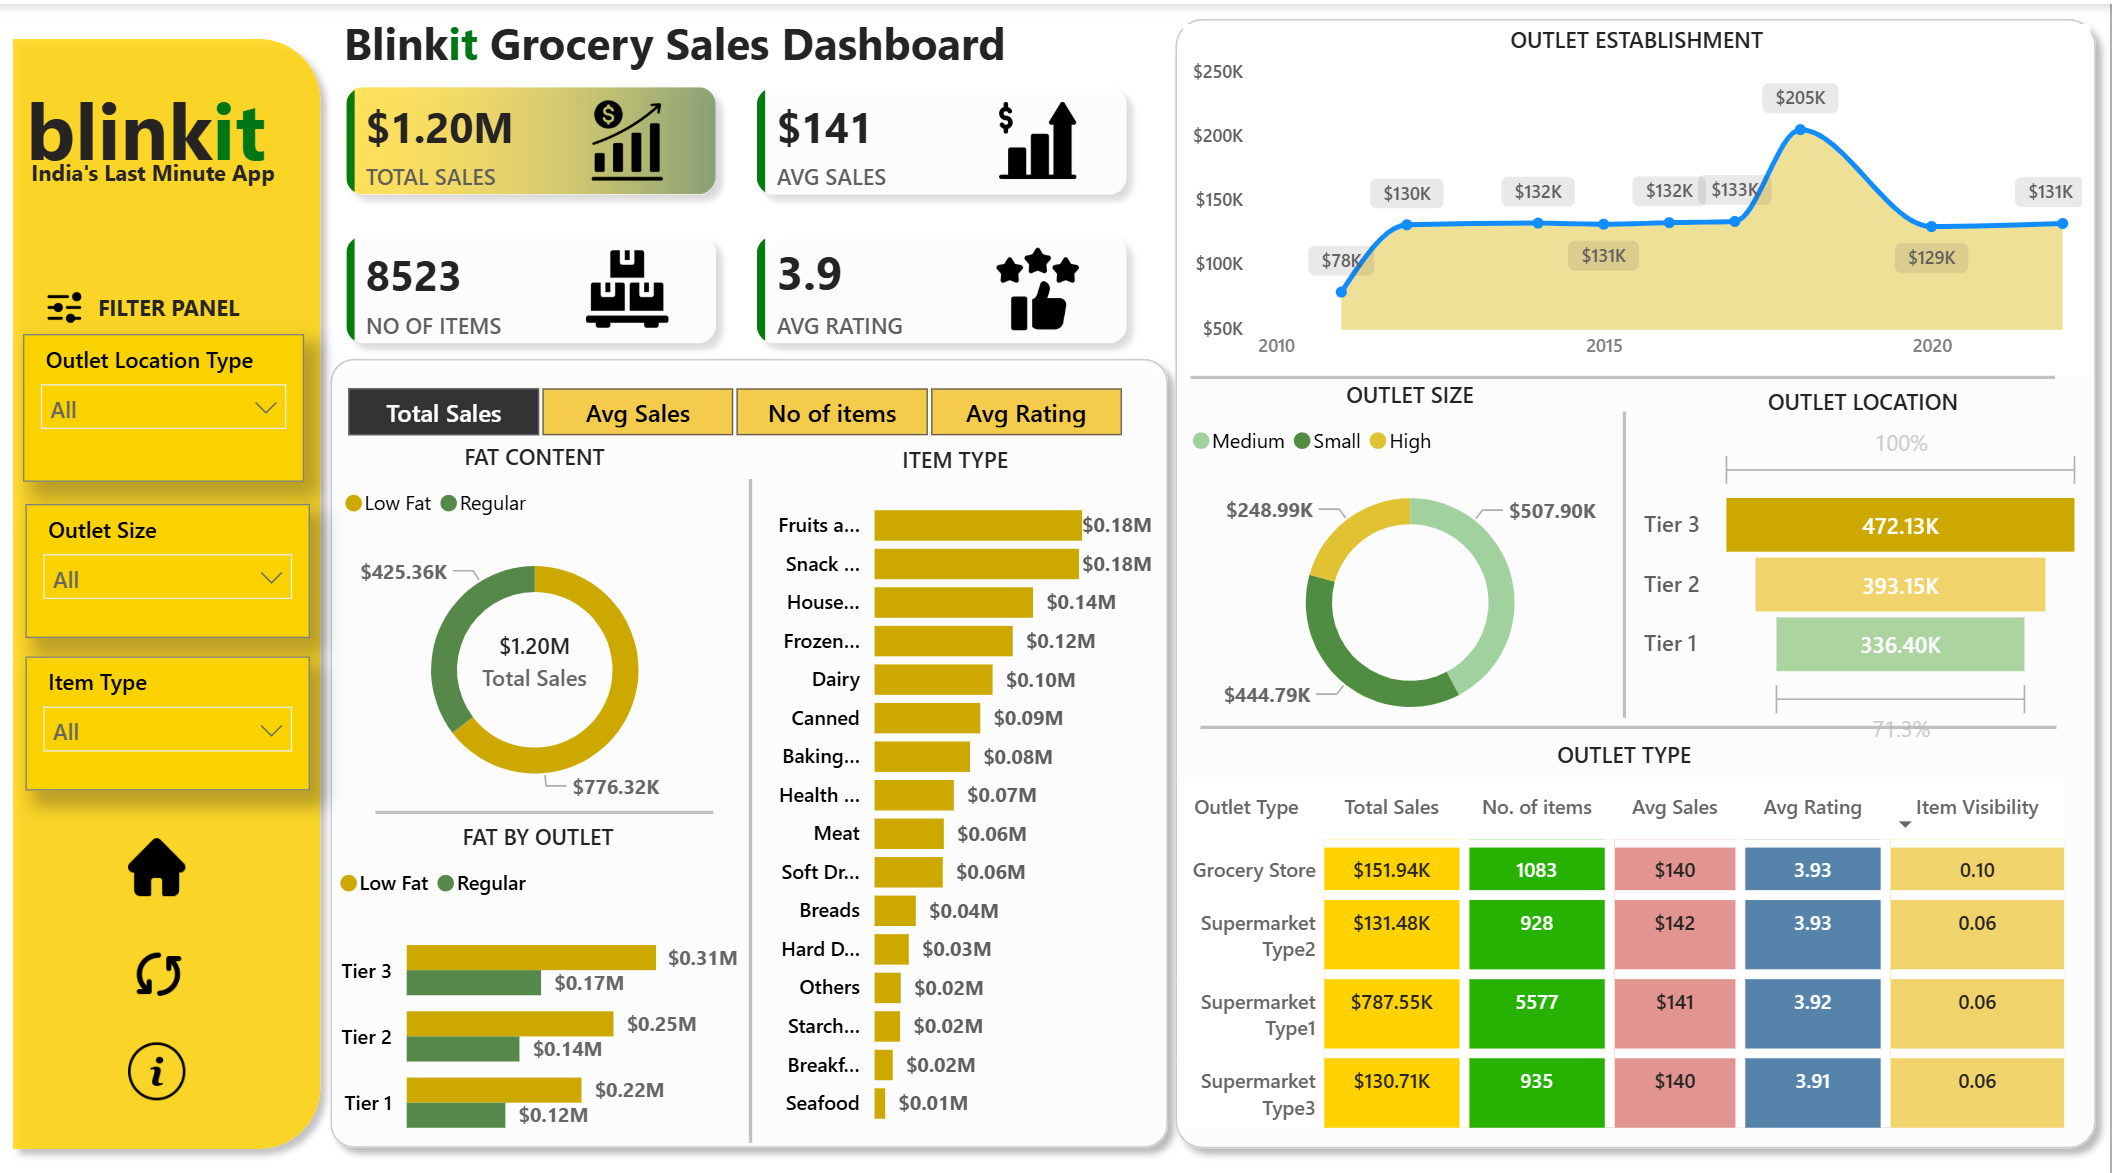

The page's visual inventory and layout, read from the dashboard file:
{"tool":"powerbi","page":{"name":"Page 1","canvas":[1280,720],"ordinal":0},"visuals":[{"type":"shape","box":[0,11.8,204.4,690.8],"z":0},{"type":"textbox","box":[11.8,37.2,180.7,82.8],"z":1000},{"type":"textbox","box":[15.2,87.8,172.3,32.1],"z":2000},{"type":"cardVisual","fields":{"Data":["Blinkit Grocery data.Total Sales","Blinkit Grocery data.Avg Sales","Blinkit Grocery data.No of items","Blinkit Grocery data.Avg Rating"]},"box":[194.2,33.8,508.4,190.9],"z":3000},{"type":"shape","box":[192.6,206.5,525.7,496.2],"z":4000},{"type":"donutChart","title":"FAT CONTENT","fields":{"Y":["Blinkit Grocery data.Total Sales"],"Category":["Blinkit Grocery data.Item Fat Content"]},"box":[204.7,265.4,241.1,230.7],"z":5000},{"type":"clusteredBarChart","title":"FAT BY OUTLET","fields":{"Y":["Blinkit Grocery data.Total Sales"],"Category":["Blinkit Grocery data.Outlet Location Type"],"Series":["Blinkit Grocery data.Item Fat Content"]},"box":[201.2,496.2,251.6,208.2],"z":6000},{"type":"cardVisual","fields":{"Data":["Blinkit Grocery data.Total Sales"]},"box":[265,363.5,120.2,69.5],"z":7000},{"type":"slicer","fields":{"Values":["Metrics.Metrics"]},"box":[185.6,225.5,518.7,41.6],"z":8000},{"type":"shape","box":[229,432,204.7,116.2],"z":9000},{"type":"shape","box":[449.3,288,12.1,402.5],"z":10000},{"type":"barChart","title":"ITEM TYPE","fields":{"Y":["Blinkit Grocery data.Total Sales"],"Category":["Blinkit Grocery data.Item Type"]},"box":[456.3,267.2,248.1,423.3],"z":11000},{"type":"shape","box":[704.4,0,576,702.6],"z":12000},{"type":"lineChart","title":"OUTLET ESTABLISHMENT","fields":{"Y":["Blinkit Grocery data.Total Sales"],"Category":["Blinkit Grocery data.Outlet Establishment Year"]},"box":[718.2,12.1,550,213.4],"z":13000},{"type":"shape","box":[723.4,168.3,523.9,116.2],"z":14000},{"type":"donutChart","title":"OUTLET SIZE","fields":{"Y":["Blinkit Grocery data.Total Sales"],"Category":["Blinkit Grocery data.Outlet Size"]},"box":[718.2,227.3,275,225],"z":15000},{"type":"shape","box":[978.5,246.4,13.9,185.6],"z":16000},{"type":"funnel","title":"OUTLET LOCATION","fields":{"Y":["Sum(Blinkit Grocery data.Sales)"],"Category":["Blinkit Grocery data.Outlet Location Type"]},"box":[992.4,232.5,275.8,222.1],"z":17000},{"type":"shape","box":[728.7,379.9,518.7,116.2],"z":18000},{"type":"pivotTable","title":"OUTLET TYPE","fields":{"Rows":["Blinkit Grocery data.Outlet Type"],"Values":["Blinkit Grocery data.Total Sales","Blinkit Grocery data.No of items","Blinkit Grocery data.Avg Sales","Blinkit Grocery data.Avg Rating","Avg(Blinkit Grocery data.Item Visibility)"]},"box":[711.3,445.9,550,251.6],"z":19000},{"type":"slicer","fields":{"Values":["Blinkit Grocery data.Outlet Location Type"]},"box":[14.8,199.5,170.6,89.5],"z":20000},{"type":"slicer","fields":{"Values":["Blinkit Grocery data.Outlet Size"]},"box":[16.4,302.6,172.3,81.1],"z":21000},{"type":"slicer","fields":{"Values":["Blinkit Grocery data.Item Type"]},"box":[16.4,395.5,172.3,81.1],"z":22000},{"type":"textbox","box":[17.7,169.2,170.6,30.8],"z":23000},{"type":"image","box":[79.3,502.1,35,43.4],"z":24000},{"type":"image","box":[79.3,570.6,37.8,33.6],"z":25000},{"type":"image","box":[79.3,628,35,39.2],"z":26000},{"type":"image","box":[24.7,173.4,32.2,22.4],"z":27000},{"type":"textbox","box":[204.4,0,498.3,52.4],"z":28000}]}

Visuals, with their boxes in screenshot pixels (x1, y1, x2, y2), scaled from the page's 1280x720 canvas onto the 2112x1173 screenshot:
shape: x1=0, y1=19, x2=337, y2=1145
textbox: x1=19, y1=61, x2=318, y2=196
textbox: x1=25, y1=143, x2=309, y2=195
cardVisual - Blinkit Grocery data.Total Sales x Blinkit Grocery data.Avg Sales: x1=320, y1=55, x2=1159, y2=366
shape: x1=318, y1=336, x2=1185, y2=1145
"FAT CONTENT" donutChart: x1=338, y1=432, x2=736, y2=808
"FAT BY OUTLET" clusteredBarChart: x1=332, y1=808, x2=747, y2=1148
cardVisual - Blinkit Grocery data.Total Sales: x1=437, y1=592, x2=636, y2=705
slicer - Metrics.Metrics: x1=306, y1=367, x2=1162, y2=435
shape: x1=378, y1=704, x2=716, y2=893
shape: x1=741, y1=469, x2=761, y2=1125
"ITEM TYPE" barChart: x1=753, y1=435, x2=1162, y2=1125
shape: x1=1162, y1=0, x2=2111, y2=1145
"OUTLET ESTABLISHMENT" lineChart: x1=1185, y1=20, x2=2093, y2=367
shape: x1=1194, y1=274, x2=2058, y2=463
"OUTLET SIZE" donutChart: x1=1185, y1=370, x2=1639, y2=737
shape: x1=1615, y1=401, x2=1637, y2=704
"OUTLET LOCATION" funnel: x1=1637, y1=379, x2=2093, y2=741
shape: x1=1202, y1=619, x2=2058, y2=808
"OUTLET TYPE" pivotTable: x1=1174, y1=726, x2=2081, y2=1136
slicer - Blinkit Grocery data.Outlet Location Type: x1=24, y1=325, x2=306, y2=471
slicer - Blinkit Grocery data.Outlet Size: x1=27, y1=493, x2=311, y2=625
slicer - Blinkit Grocery data.Item Type: x1=27, y1=644, x2=311, y2=776
textbox: x1=29, y1=276, x2=311, y2=326
image: x1=131, y1=818, x2=189, y2=889
image: x1=131, y1=930, x2=193, y2=984
image: x1=131, y1=1023, x2=189, y2=1087
image: x1=41, y1=282, x2=94, y2=319
textbox: x1=337, y1=0, x2=1159, y2=85
